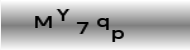7: (75, 21, 89, 34)
M: (34, 15, 53, 28)
Y: (55, 7, 71, 21)
p: (110, 28, 125, 43)
q: (95, 17, 110, 31)
